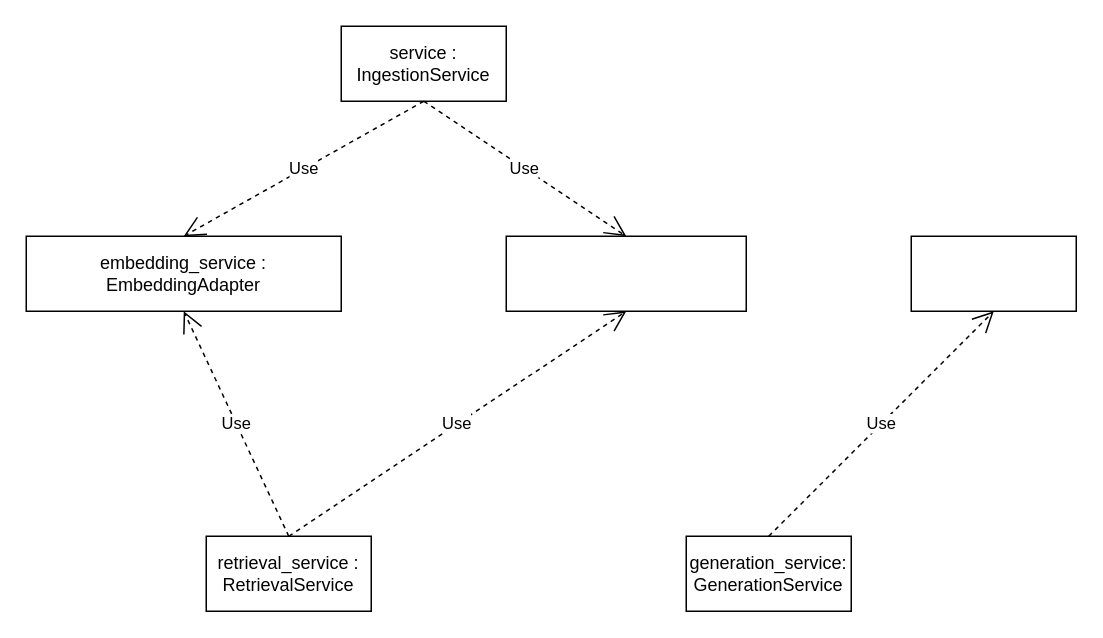
Image size: 1103x638. Some labels were removed from this diagram. The shapes that lost their labels are listed below. From the top down, each one's centre as x and y in pixels, then its label:
At point (625, 273): "vector_db : VectorDBAdapter".
At point (993, 273): "llm_service : LLMAdapter".
